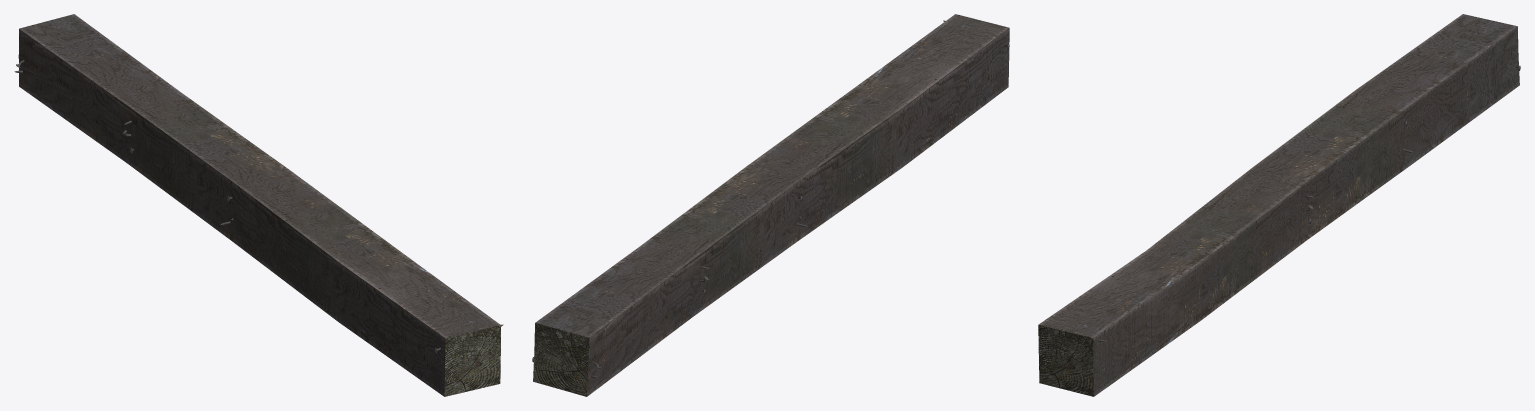
Rendered from SM_FloorSideB400.FBX.
3 views of the same model, side by side, from view 1: azimuth 30°, elevation 25°; view 2: azimuth 150°, elevation 25°; view 3: azimuth 330°, elevation 25° (orthographic).
Parts seen in each view (by area): view 1: SM_FloorSideB400_LOD0; view 2: SM_FloorSideB400_LOD0; view 3: SM_FloorSideB400_LOD0.
Part boxes in pixels (x1,y1,x2,y2): SM_FloorSideB400_LOD0: (14, 14, 503, 396); SM_FloorSideB400_LOD0: (532, 14, 1009, 396); SM_FloorSideB400_LOD0: (1038, 14, 1520, 396).
Size of what is drawn, in the model's own units: 41.39 by 33.17 by 402.
